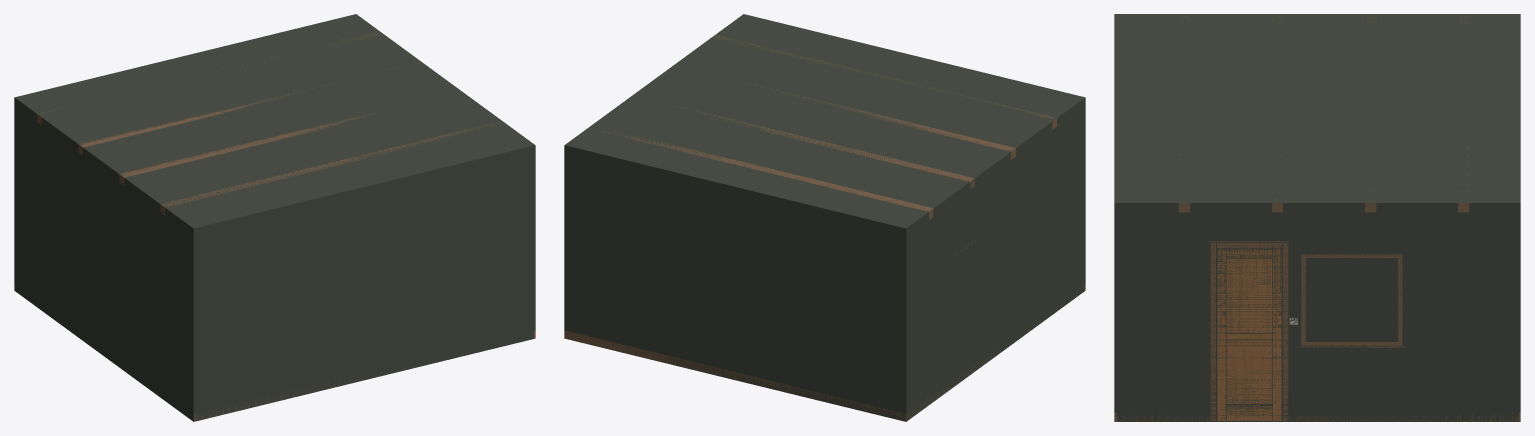
File: studio-full-kit-m2-proposal-v02.glb
3 views of the same model, side by side, from view 1: azimuth 30°, elevation 25°; view 2: azimuth 150°, elevation 25°; view 3: azimuth 270°, elevation 25° (orthographic). The views are drawn at different scales.
Parts seen in each view (by area): view 1: arch_shell__walls_ceiling, arch_cornice__front, arch_beams__beam_4, arch_cornice__left, arch_beams__beam_3, arch_beams__beam_2, arch_cornice__back, arch_cornice__right; view 2: arch_shell__walls_ceiling, arch_skirting__back, arch_cornice__back, arch_beams__beam_1, arch_beams__beam_2, arch_cornice__left, arch_beams__beam_3, arch_cornice__front, arch_cornice__right, arch_beams__beam_4; view 3: arch_shell__walls_ceiling, arch_door__leaf, arch_door__architrave, arch_cornice__right, arch_cornice__left, arch_skirting__right, arch_cornice__front, arch_cornice__back, arch_window__jamb_b, arch_window__jamb_a, arch_window__foot, arch_window__head.
Boxes of the visible parts, <box> form: arch_shell__walls_ceiling: <box>14,15,535,421</box>; arch_cornice__front: <box>192,144,534,232</box>; arch_beams__beam_4: <box>160,122,499,215</box>; arch_cornice__left: <box>16,97,196,232</box>; arch_beams__beam_3: <box>119,105,403,185</box>; arch_beams__beam_2: <box>78,69,384,155</box>; arch_cornice__back: <box>14,14,356,102</box>; arch_cornice__right: <box>354,14,535,150</box>; arch_shell__walls_ceiling: <box>564,14,1085,421</box>; arch_skirting__back: <box>566,331,906,421</box>; arch_cornice__back: <box>564,144,907,232</box>; arch_beams__beam_1: <box>602,130,933,219</box>; arch_beams__beam_2: <box>657,101,974,189</box>; arch_cornice__left: <box>903,97,1083,232</box>; arch_beams__beam_3: <box>684,67,1015,159</box>; arch_cornice__front: <box>742,14,1085,101</box>; arch_cornice__right: <box>564,14,743,149</box>; arch_beams__beam_4: <box>712,35,1056,129</box>; arch_shell__walls_ceiling: <box>1114,14,1520,421</box>; arch_door__leaf: <box>1217,249,1281,420</box>; arch_door__architrave: <box>1209,241,1289,421</box>; arch_cornice__right: <box>1114,201,1520,207</box>; arch_cornice__left: <box>1115,14,1520,15</box>; arch_skirting__right: <box>1117,413,1517,421</box>; arch_cornice__front: <box>1114,14,1118,207</box>; arch_cornice__back: <box>1516,14,1520,207</box>; arch_window__jamb_b: <box>1301,254,1305,344</box>; arch_window__jamb_a: <box>1398,254,1402,345</box>; arch_window__foot: <box>1301,342,1402,345</box>; arch_window__head: <box>1301,254,1402,257</box>.
Bounding box in the file's own units: 4.8 × 2.62 × 4.36.
Materials: 11 (3 with a texture image).
